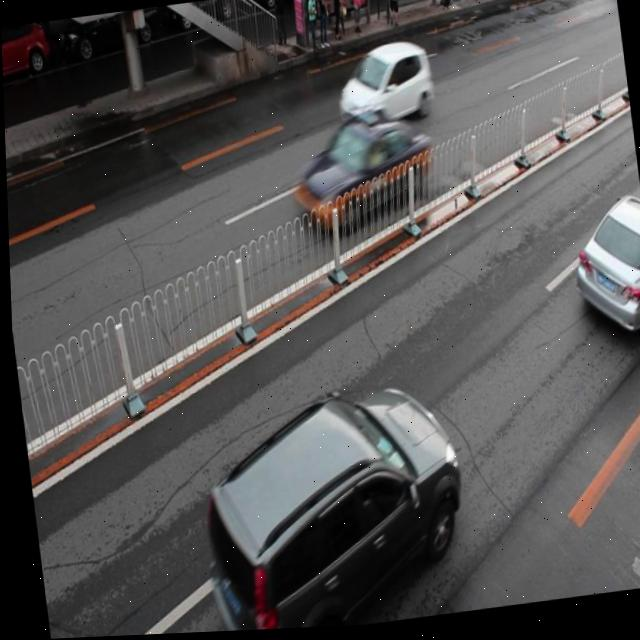car: (186, 379, 469, 634), (281, 108, 435, 237), (563, 197, 640, 349), (330, 41, 434, 135), (53, 7, 159, 64), (1, 21, 52, 87), (161, 0, 237, 31), (241, 0, 316, 17)
